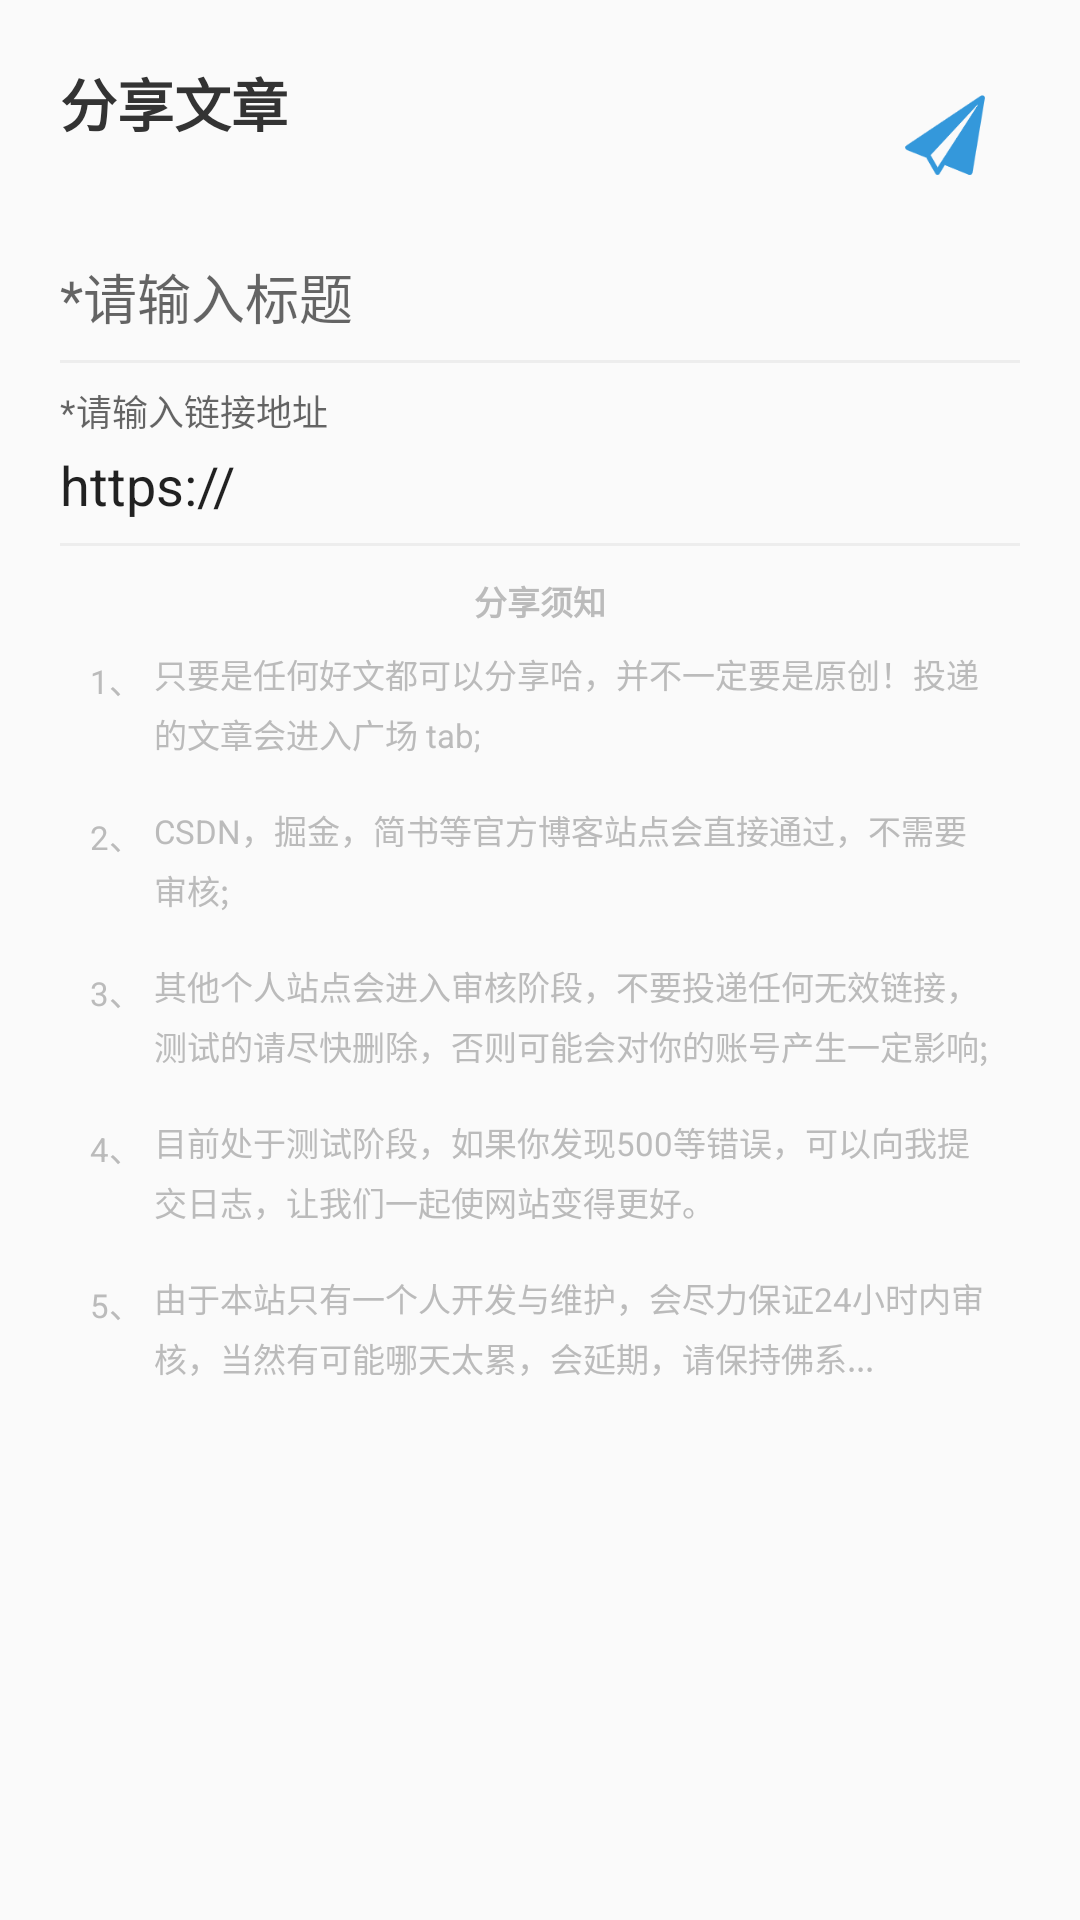

Where icons sit on this 1080 x 1920 app screen, as {"left": x1, "top": y1, "right": x2, "bottom": y2}:
share: {"left": 905, "top": 95, "right": 985, "bottom": 175}
